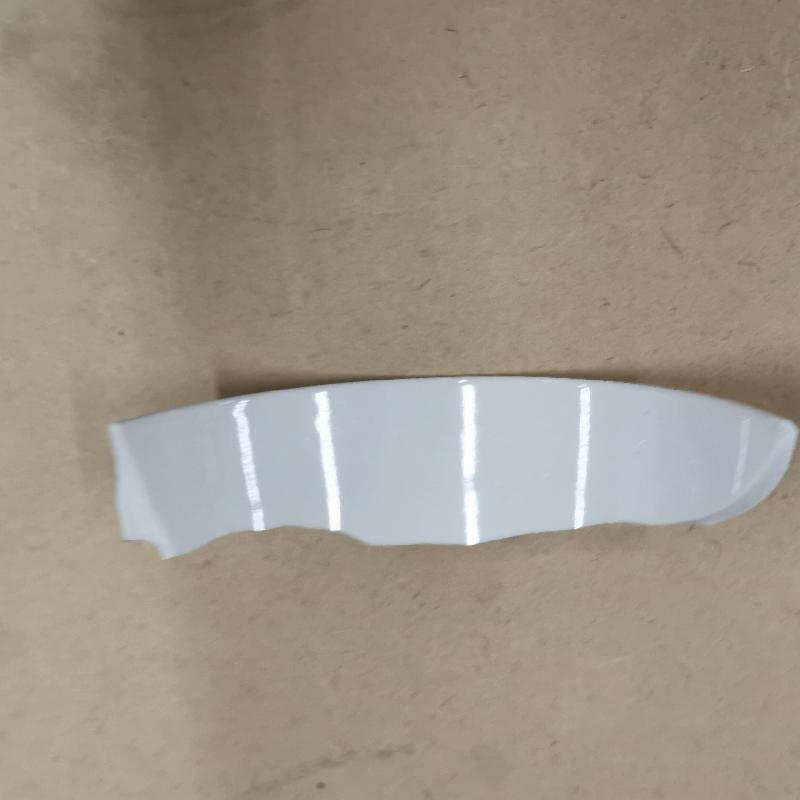ceram: (104, 370, 799, 568)
